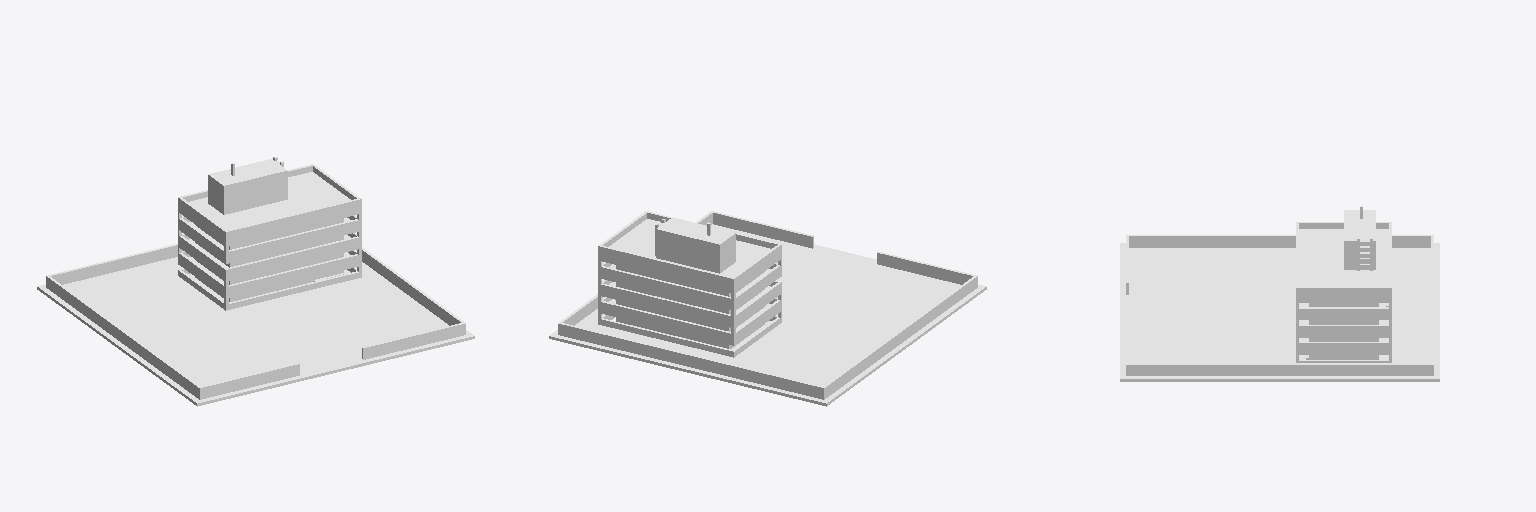
File: hinanjo.obj
The picture shows the model from 3 angles: view 1: azimuth 30°, elevation 25°; view 2: azimuth 150°, elevation 25°; view 3: azimuth 270°, elevation 25°; orthographic projection.
Size of the model in its own units: 100 by 40 by 100.